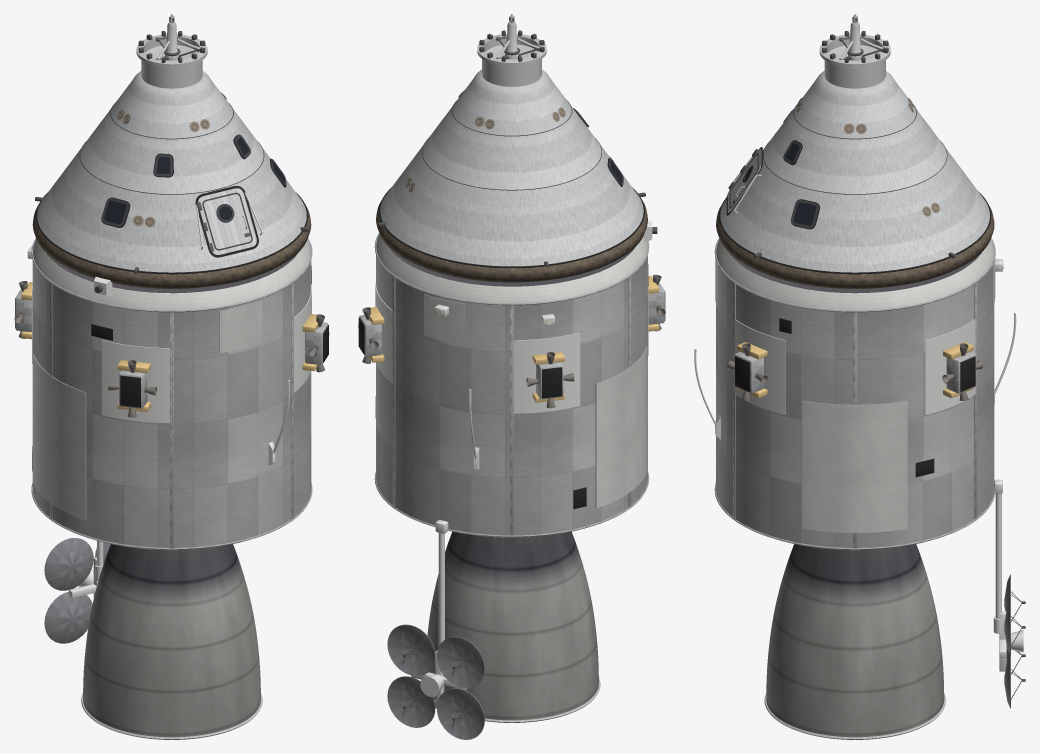
The model's file is csm-columbia.glb.
3 renders of one model, left to right at view 1: azimuth 30°, elevation 25°; view 2: azimuth 150°, elevation 25°; view 3: azimuth 270°, elevation 25°, orthographic. The views are drawn at different scales.
Visible parts, largest first — view 1: SM-body-geo, CM-shell-geo, SM-SPS-bell-geo, SM-HGA-geo, CM-hatch-geo, SM-RCS-D-geo, SM-RCS-A-geo, SM-RCS-C-geo, CM-docking-probe-geo; view 2: SM-body-geo, CM-shell-geo, SM-SPS-bell-geo, SM-HGA-geo, SM-RCS-C-geo, SM-RCS-B-geo, SM-RCS-D-geo, CM-docking-probe-geo; view 3: SM-body-geo, CM-shell-geo, SM-SPS-bell-geo, SM-HGA-geo, SM-RCS-A-geo, SM-RCS-B-geo, CM-hatch-geo, CM-docking-probe-geo.
Boxes of the visible parts, x1,y1,x2,y2 form: SM-body-geo: [27, 238, 312, 550]; CM-shell-geo: [32, 31, 311, 296]; SM-SPS-bell-geo: [81, 544, 262, 739]; SM-HGA-geo: [44, 538, 110, 643]; CM-hatch-geo: [196, 188, 256, 254]; SM-RCS-D-geo: [108, 360, 157, 417]; SM-RCS-A-geo: [302, 314, 329, 372]; SM-RCS-C-geo: [14, 281, 32, 339]; CM-docking-probe-geo: [155, 14, 199, 60]; SM-body-geo: [374, 233, 649, 537]; CM-shell-geo: [376, 30, 657, 282]; SM-SPS-bell-geo: [427, 531, 600, 722]; SM-HGA-geo: [387, 520, 484, 739]; SM-RCS-C-geo: [526, 352, 574, 408]; SM-RCS-B-geo: [358, 307, 384, 363]; SM-RCS-D-geo: [648, 274, 665, 331]; CM-docking-probe-geo: [496, 14, 539, 59]; SM-body-geo: [694, 238, 1016, 550]; CM-shell-geo: [716, 31, 994, 288]; SM-SPS-bell-geo: [764, 544, 945, 739]; SM-HGA-geo: [993, 479, 1025, 708]; SM-RCS-A-geo: [727, 342, 767, 400]; SM-RCS-B-geo: [942, 342, 982, 400]; CM-hatch-geo: [727, 149, 761, 212]; CM-docking-probe-geo: [839, 14, 883, 60].
Bounding box in the file's own units: 3.95 × 10.66 × 4.66.
17 materials, 6 textured.
